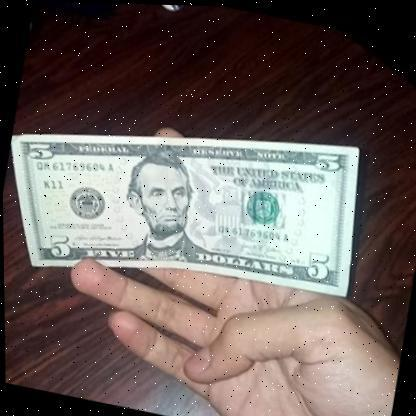five-front: (1, 73, 372, 323)
